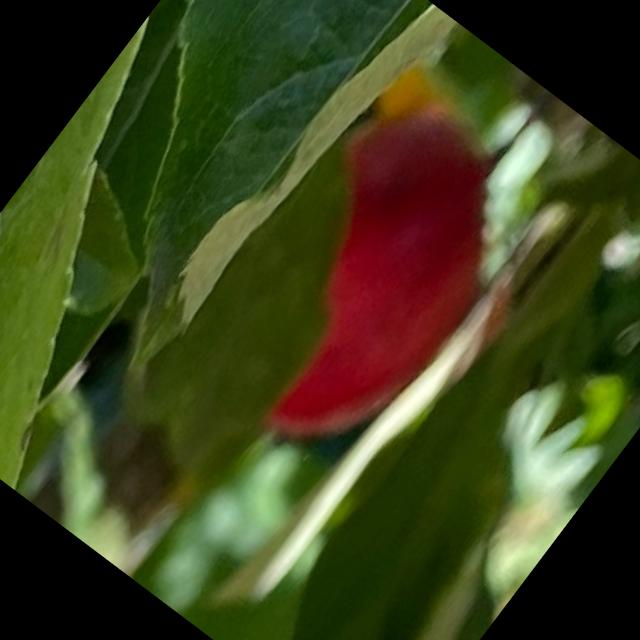Apples: (186, 72, 558, 473)
